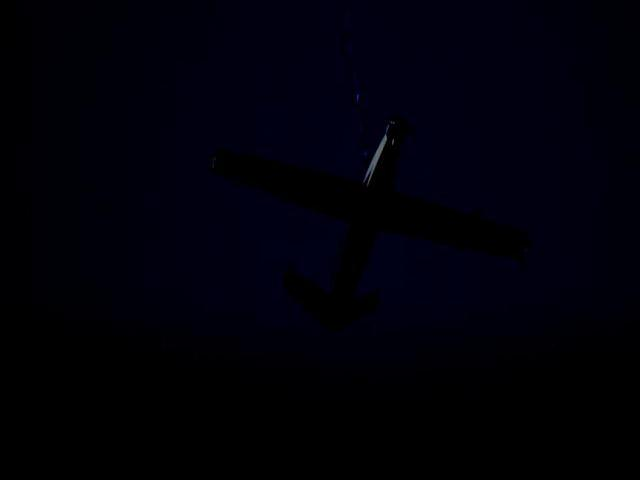iha: (207, 117, 530, 332)
